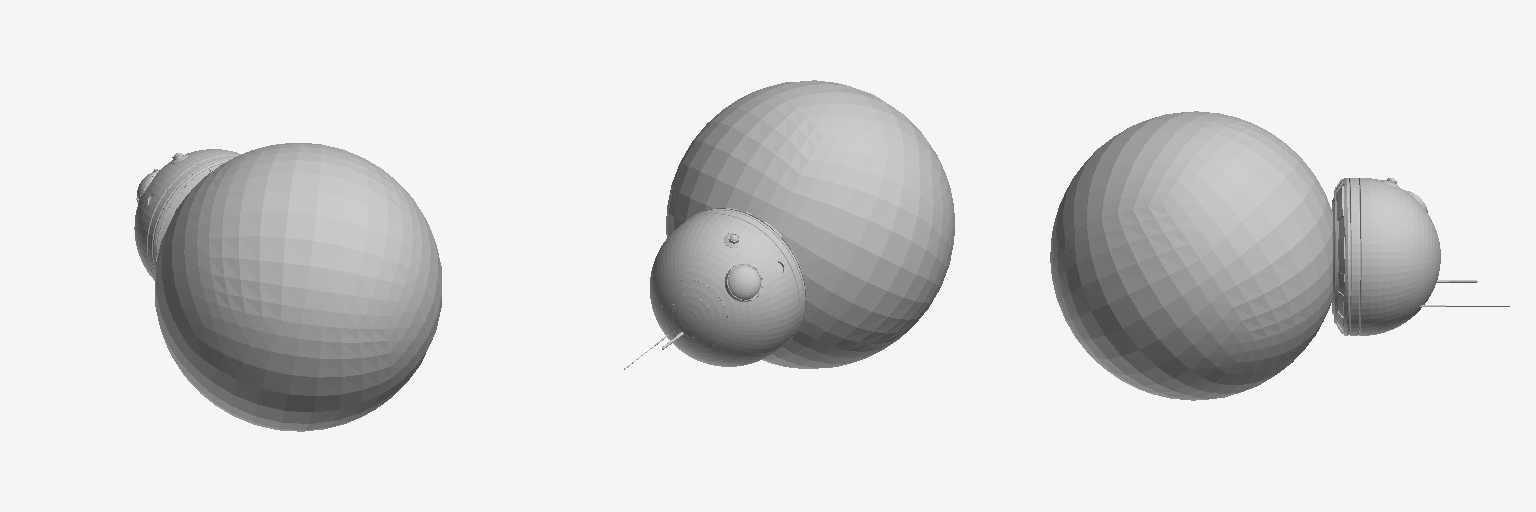
File: newbb8.obj
3 views of the same model, side by side, from view 1: azimuth 30°, elevation 25°; view 2: azimuth 150°, elevation 25°; view 3: azimuth 270°, elevation 25° (orthographic).
Visible parts, largest first — view 1: Box001_Untitled.001, Object004_Untitled; view 2: Box001_Untitled.001, Object004_Untitled; view 3: Box001_Untitled.001, Object004_Untitled.
Boxes of the visible parts, x1,y1,x2,y2 form: Box001_Untitled.001: [155, 143, 441, 431]; Object004_Untitled: [134, 149, 241, 280]; Box001_Untitled.001: [666, 80, 954, 368]; Object004_Untitled: [624, 208, 805, 369]; Box001_Untitled.001: [1050, 111, 1332, 400]; Object004_Untitled: [1332, 178, 1509, 335].
Bounding box in the file's own units: 0.9947 × 0.9929 × 1.58.